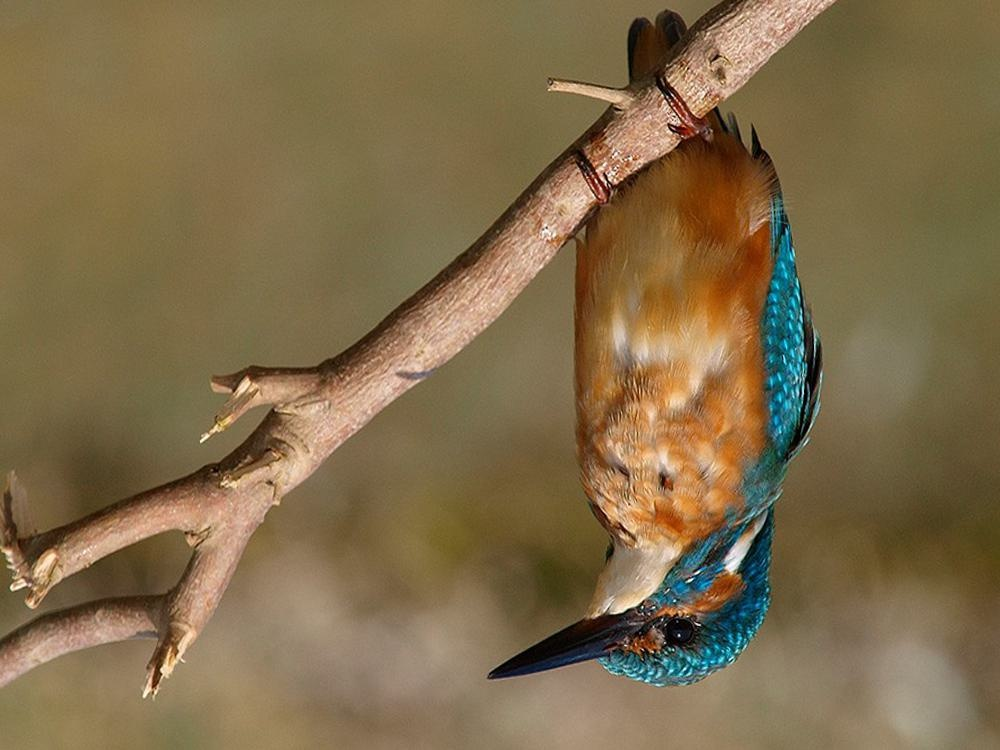kingfisher: (504, 44, 817, 705)
